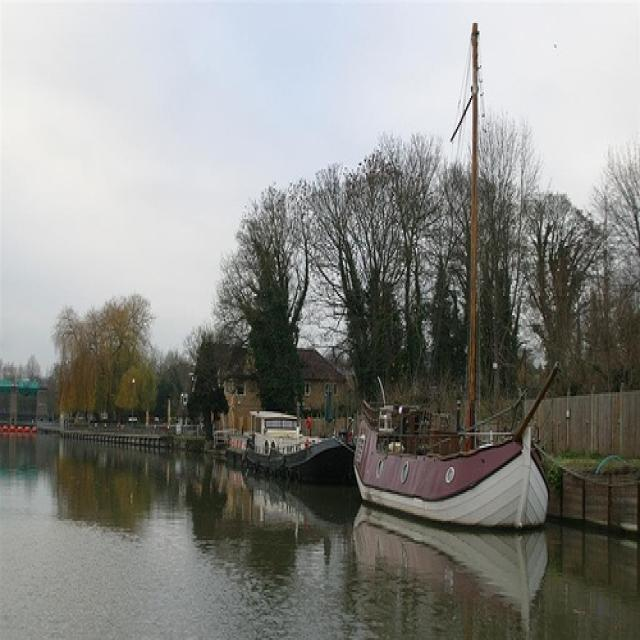boat: (351, 21, 559, 536), (236, 411, 360, 484)
